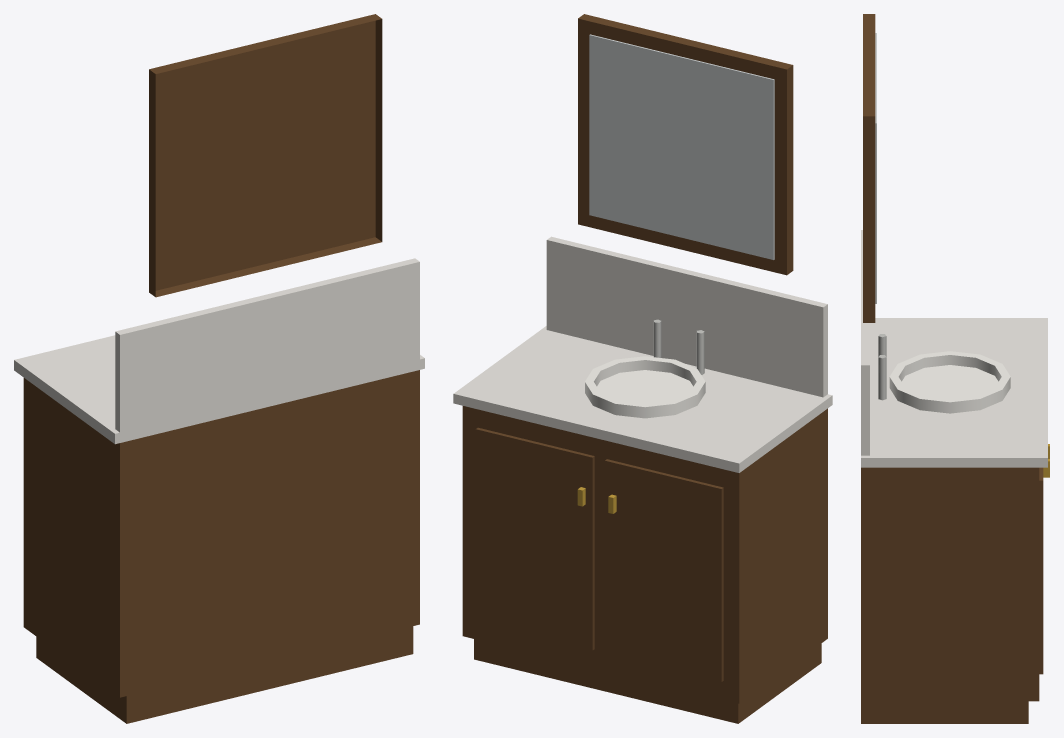
The model's file is parametric-washstand-1st-pub.glb.
The picture shows the model from 3 angles, left to right: view 1: azimuth 30°, elevation 25°; view 2: azimuth 150°, elevation 25°; view 3: azimuth 270°, elevation 25°; orthographic projection. The views are drawn at different scales.
Visible parts, largest first — view 1: parametric-washstand-1st-pub; view 2: parametric-washstand-1st-pub; view 3: parametric-washstand-1st-pub.
Part boxes in pixels (left/top/right/bottom): parametric-washstand-1st-pub: left=14, top=14, right=424, bottom=723; parametric-washstand-1st-pub: left=453, top=14, right=832, bottom=723; parametric-washstand-1st-pub: left=861, top=14, right=1049, bottom=723.
Size of the model in its own units: 0.93 by 1.84 by 0.53.
